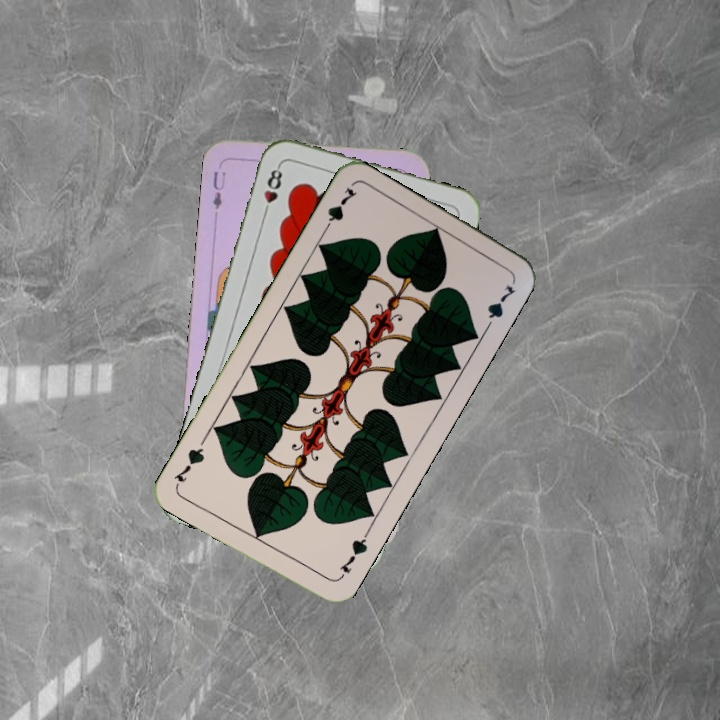EU: (208, 167, 229, 212)
G7: (318, 183, 360, 237), (334, 529, 371, 582)
H8: (259, 161, 285, 219)
